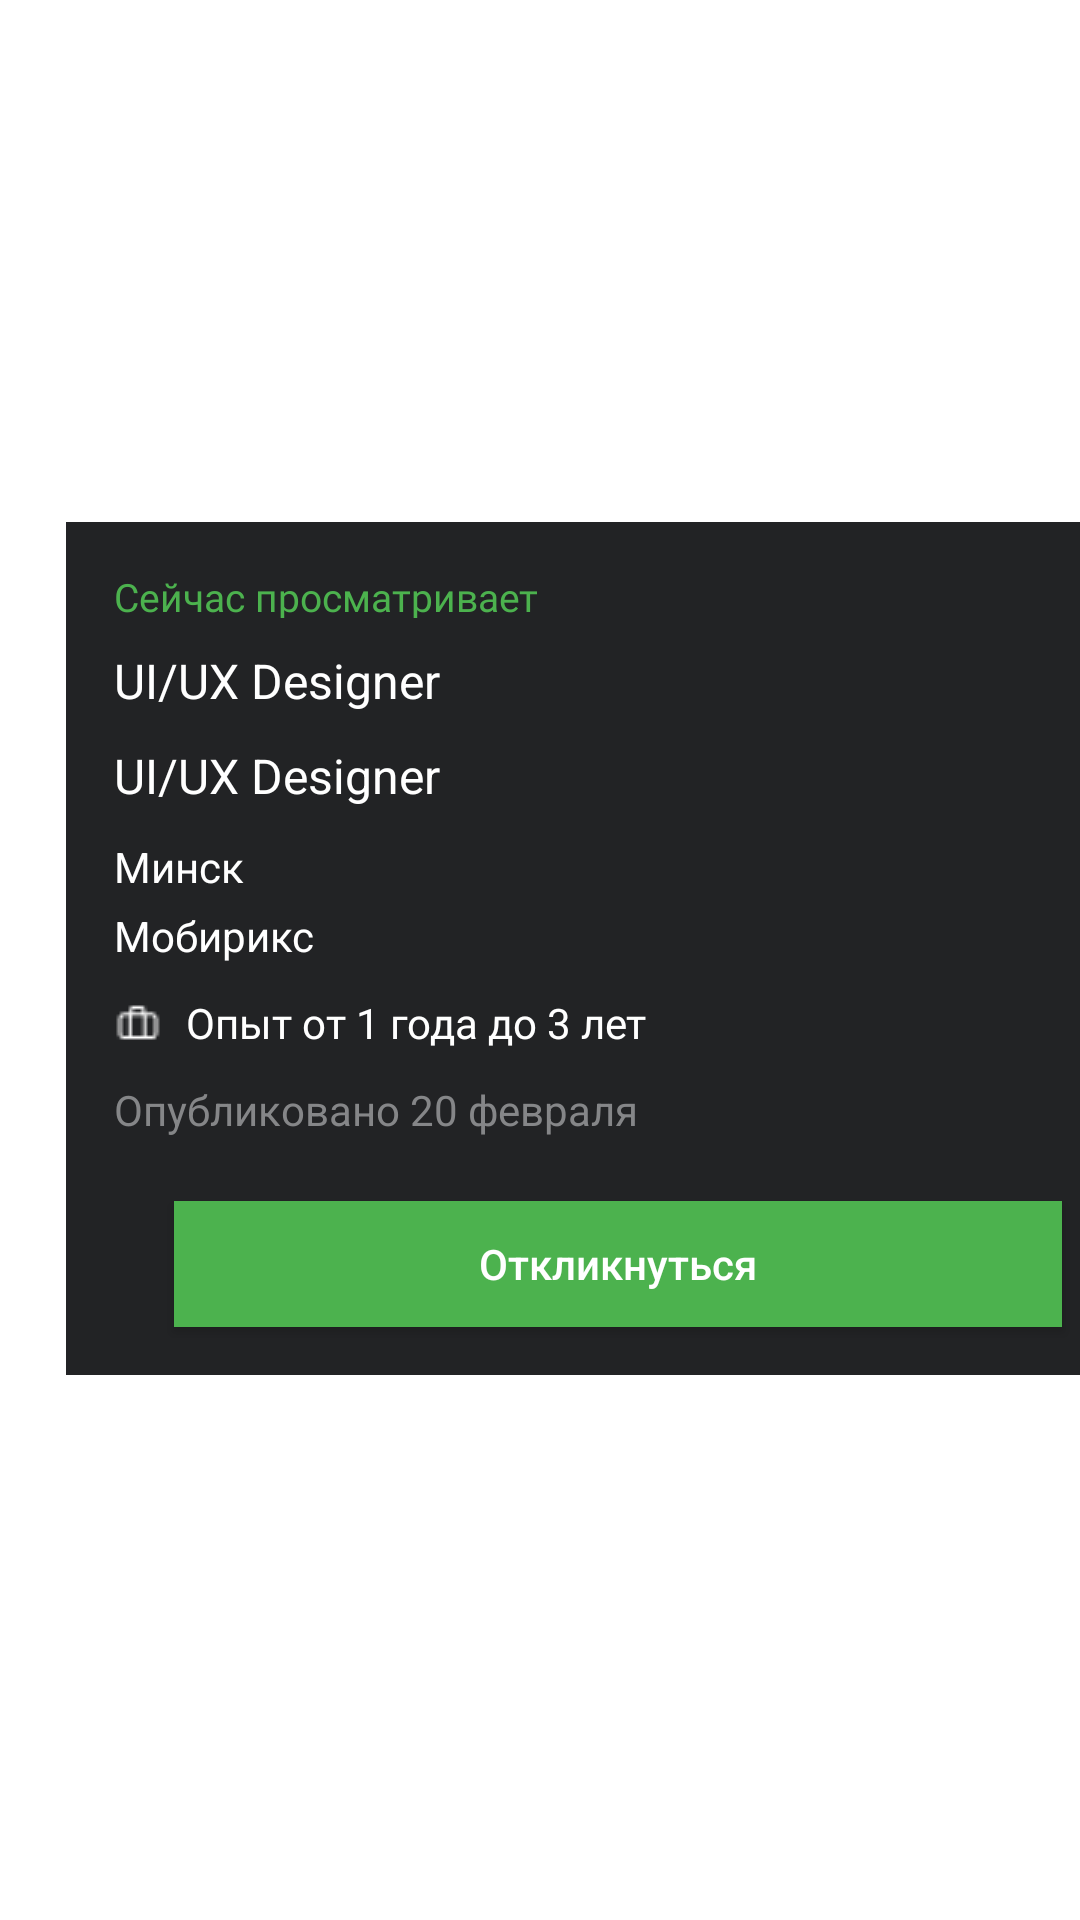

Icon bounding boxes for this 1080px x 1920px phone screenshot, format (x1, y1, x2, y2):
experience: (116, 1005, 160, 1040)
